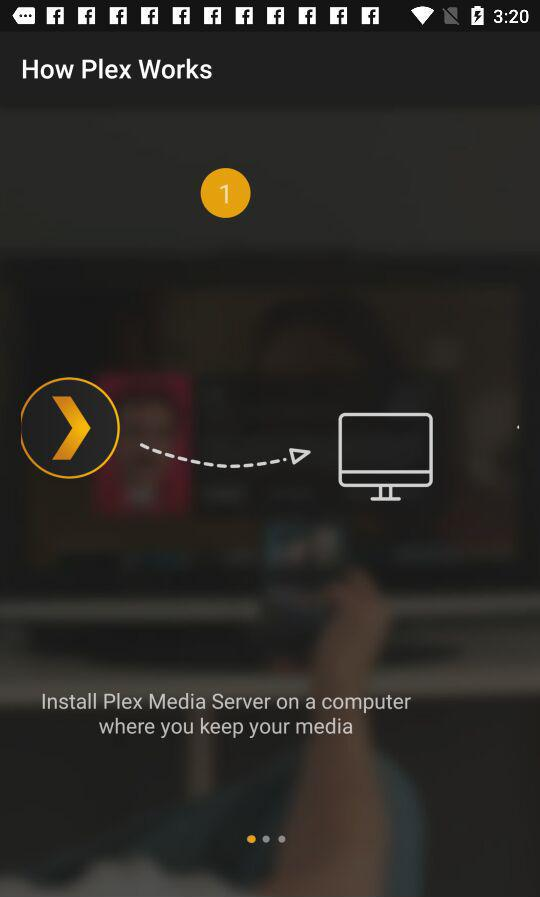BackgroundImage: (1, 33, 540, 897)
Image: (20, 376, 435, 503), (200, 168, 252, 220)
PageIndicator: (246, 834, 287, 845)
Text: (42, 692, 412, 740), (23, 58, 213, 81)
UpperTaskBar: (1, 1, 540, 33)
